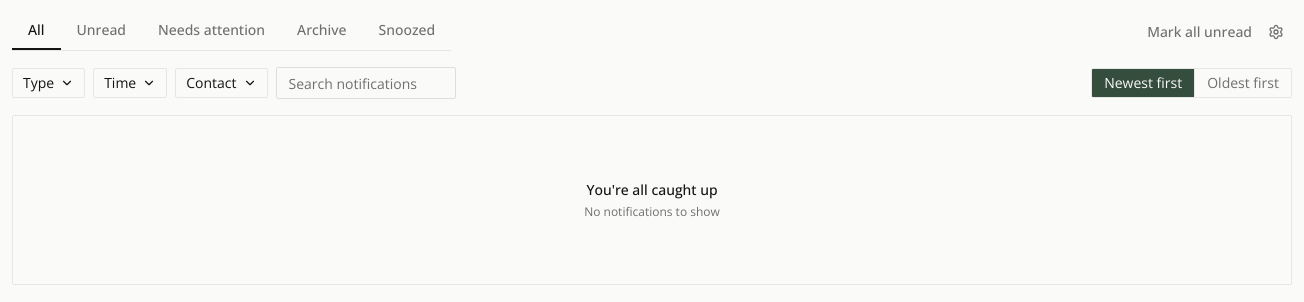
Test: NotificationsPageClient — Snoozed tab renders › switching to Snoozed clears the contact picker (mirrors archive handling)
Expected: the button with test id "notification-filter-contact" is shown, [175, 68, 268, 98]
Switch to Snoozed tab
Click the tab with test id "page-tab-snoozed": (407, 31) [362, 12, 451, 50]
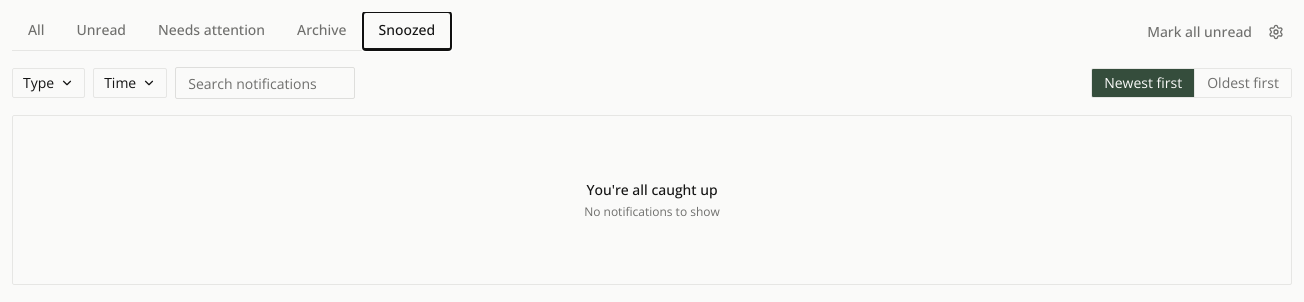
Result: the button with test id "notification-filter-contact" is gone
